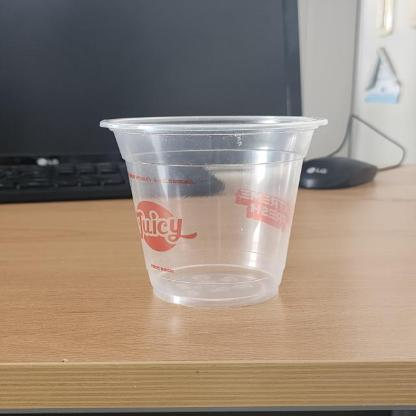Plastic Cup: (97, 113, 331, 304)
